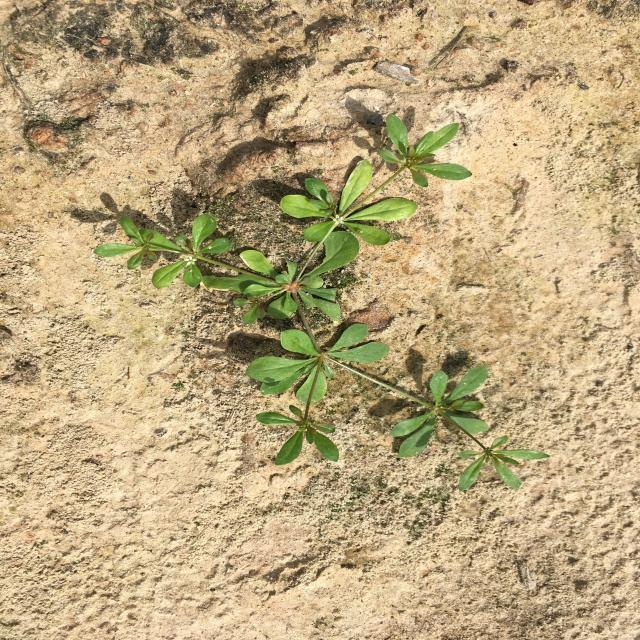Carpetweed: (94, 113, 550, 491)
